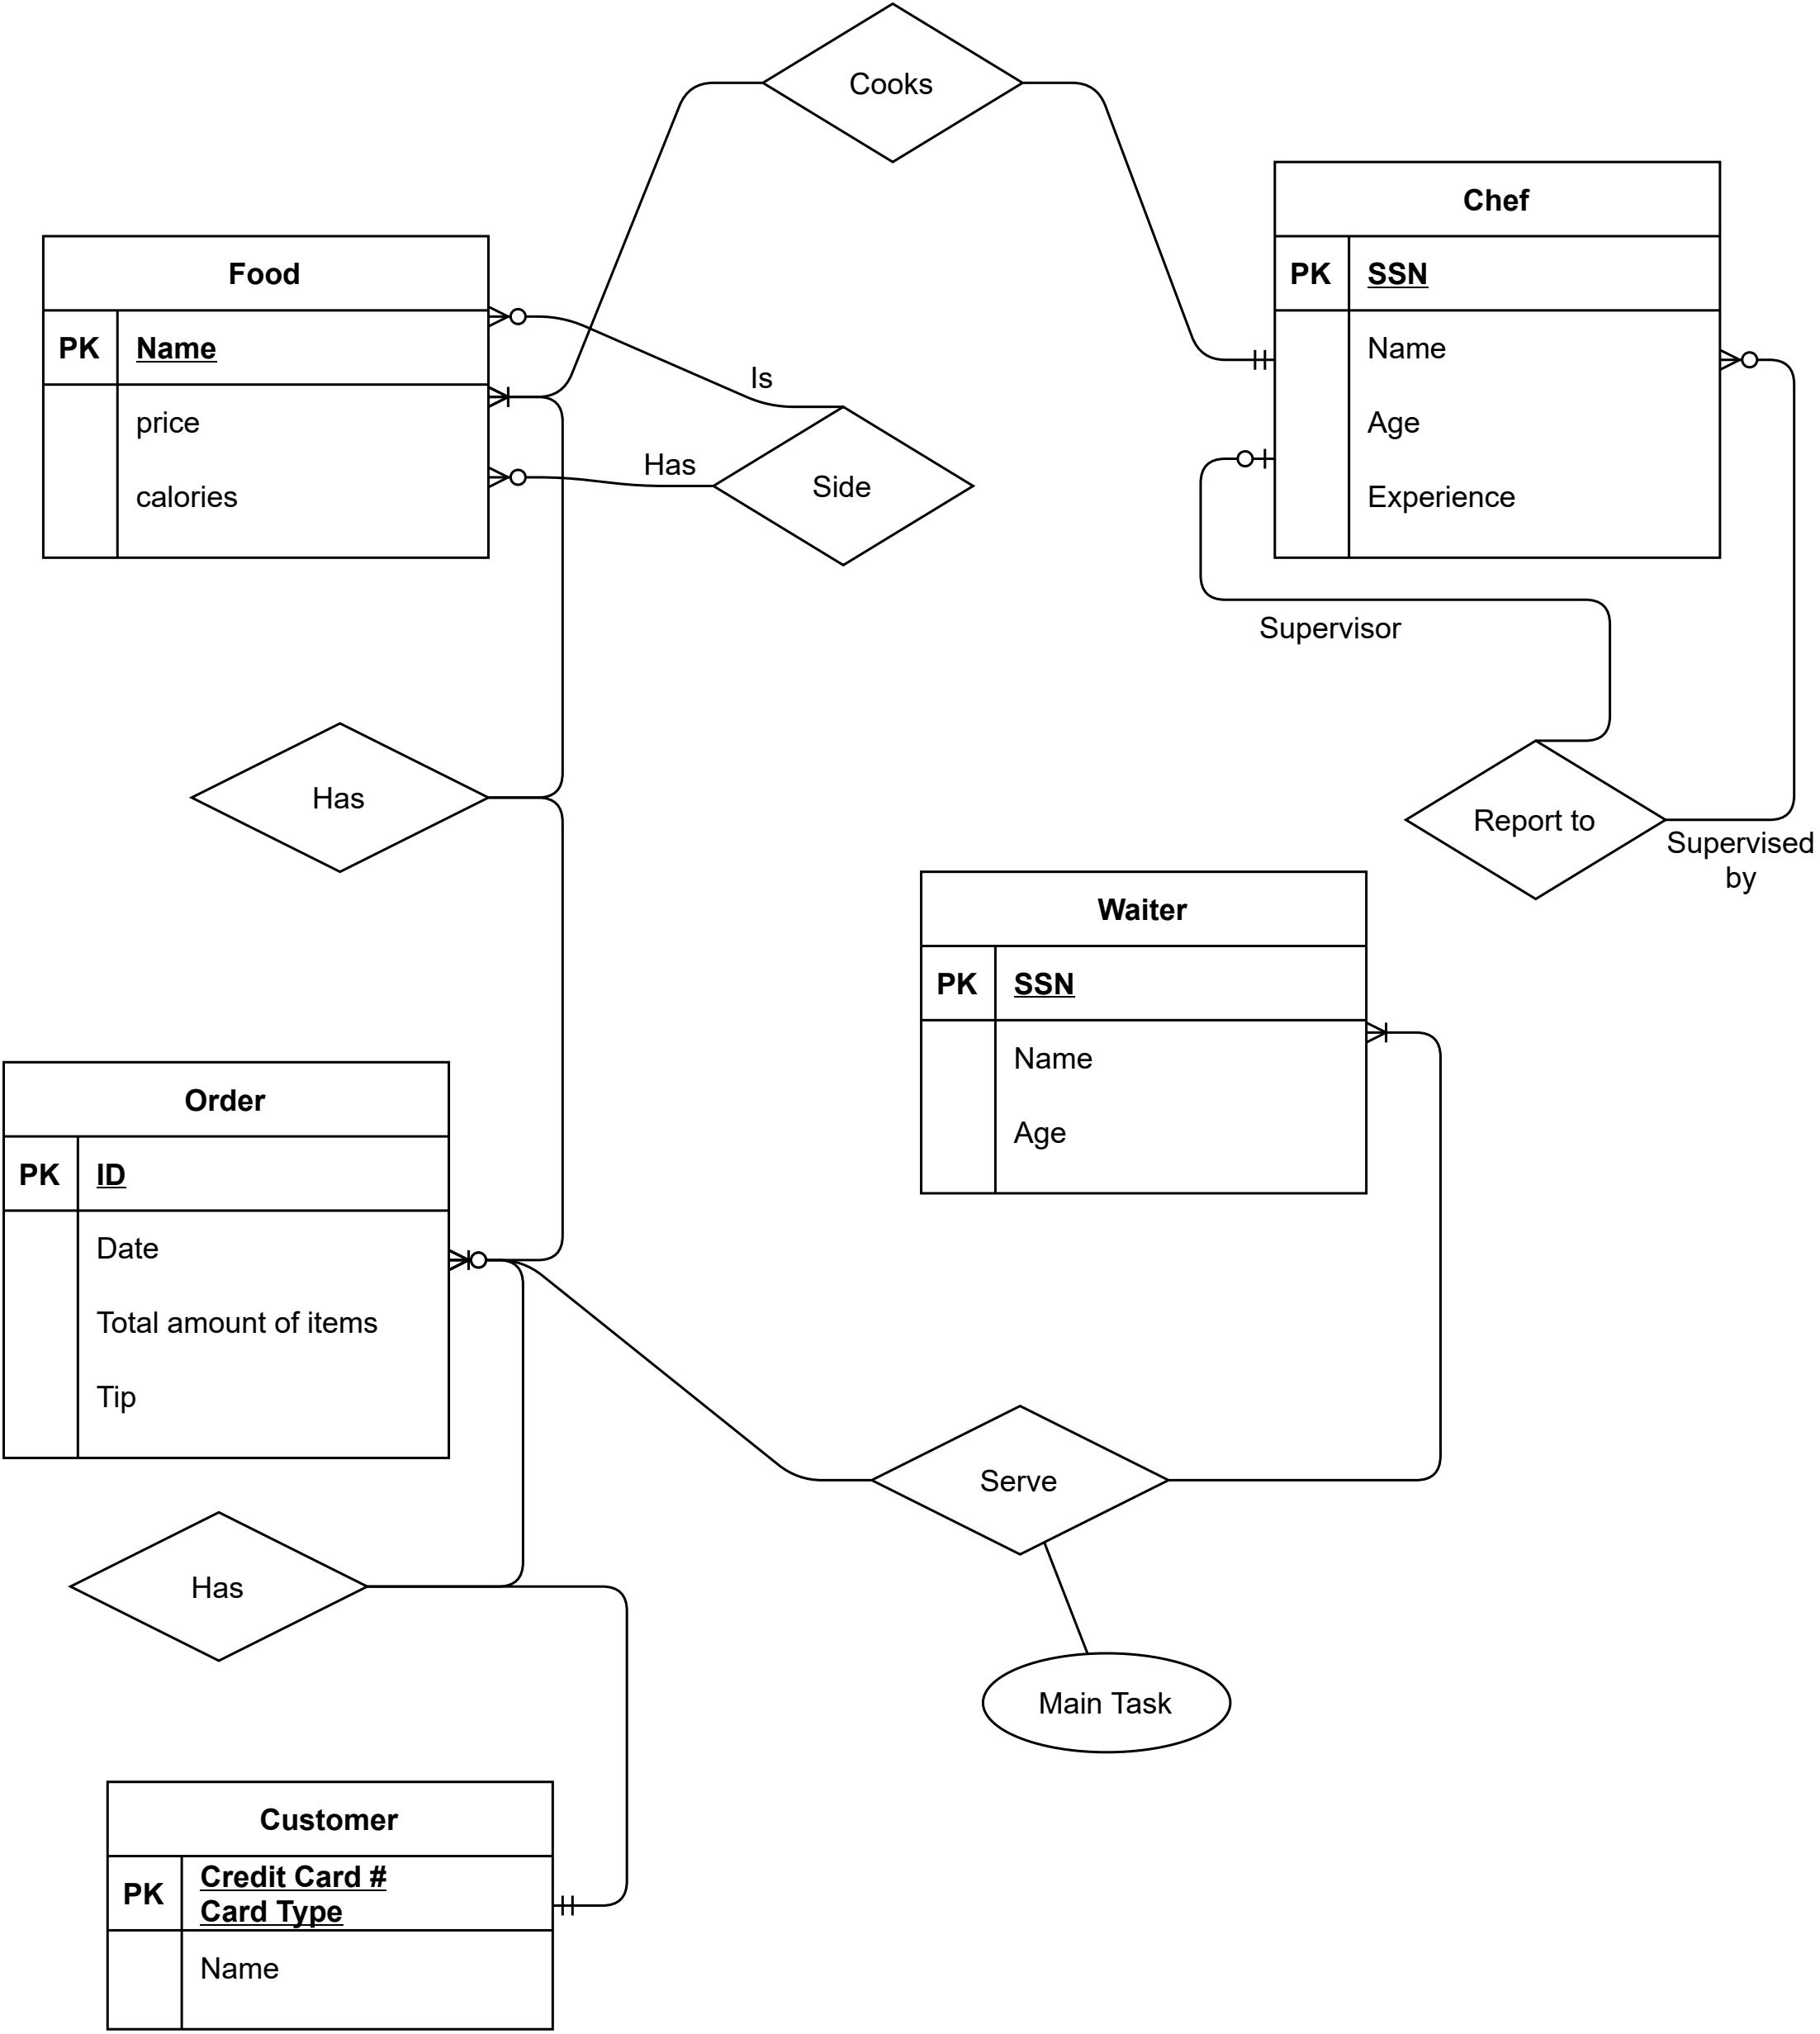Attribute: (980, 1653, 1233, 1755)
Entity: (0, 1059, 451, 1460), (1272, 160, 1723, 559), (40, 234, 492, 560), (919, 869, 1369, 1196), (104, 1779, 555, 2030)
Relationship: (190, 720, 488, 873), (871, 1403, 1168, 1556), (69, 1511, 367, 1662), (713, 406, 975, 566), (1404, 739, 1665, 899), (762, 2, 1022, 162)
